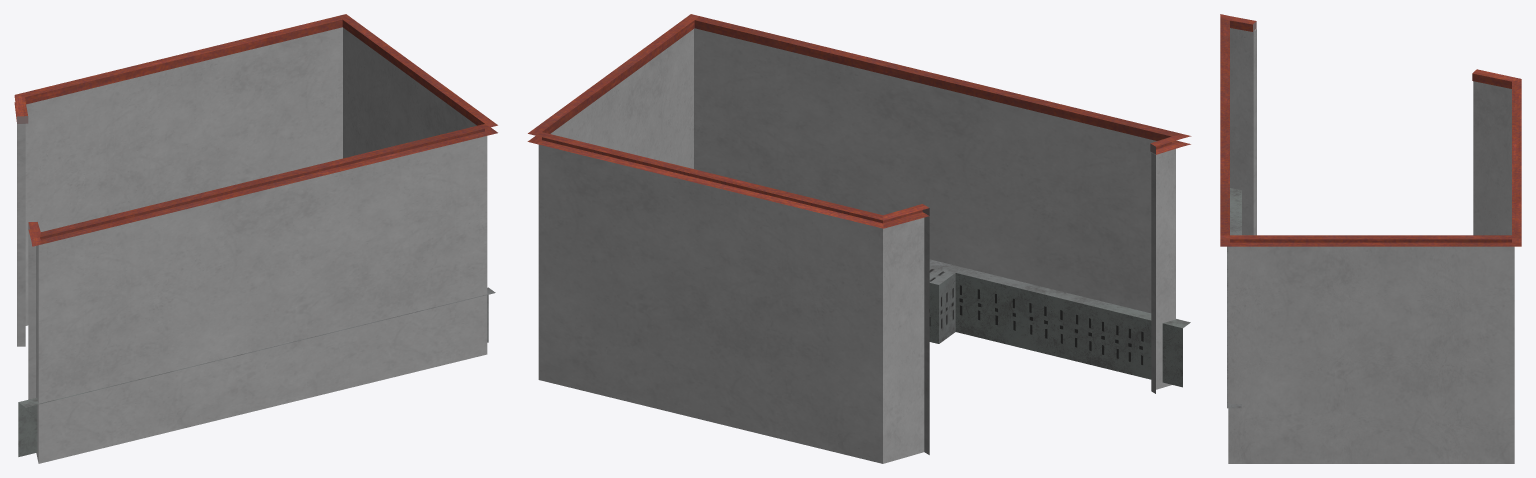
The model's file is SM_Tunnel_Blocks_Wall.fbx.
3 renders of one model, left to right at view 1: azimuth 30°, elevation 25°; view 2: azimuth 150°, elevation 25°; view 3: azimuth 270°, elevation 25°, orthographic. The views are drawn at different scales.
Parts seen in each view (by area): view 1: SM_Tunnel_Blocks_Wall; view 2: SM_Tunnel_Blocks_Wall; view 3: SM_Tunnel_Blocks_Wall.
Part boxes in pixels (x1=…): SM_Tunnel_Blocks_Wall: x1=14, y1=14, x2=497, y2=463; SM_Tunnel_Blocks_Wall: x1=527, y1=14, x2=1191, y2=463; SM_Tunnel_Blocks_Wall: x1=1220, y1=14, x2=1521, y2=463.
Size of the model in its own units: 179 by 100 by 83.71.
Materials: 1 (1 with a texture image).
